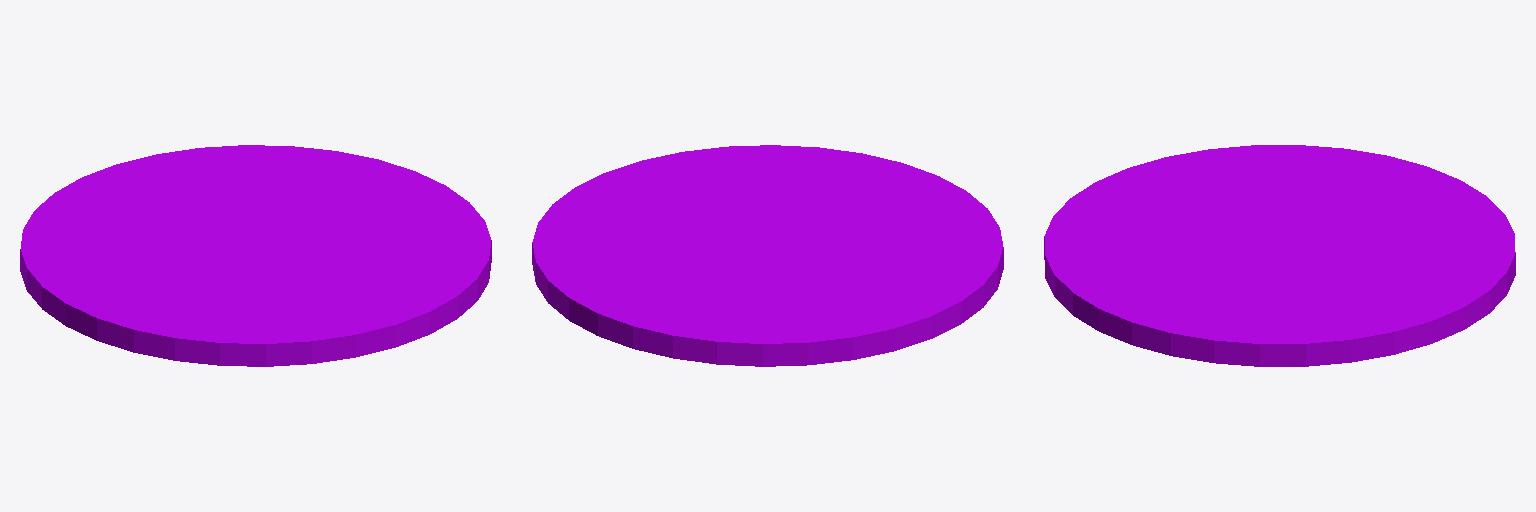
URDF robot description (Interference):
<?xml version="1.0"?>
<robot name="Interference">
  <link name="baseLink">
    <inertial>
      <origin xyz="0.0 0.0 0.0" rpy="0.0 0.0 0.0"/>
      <inertia ixx="0.0" ixy="0.0" ixz="0.0" iyy="0.0" iyz="0.0" izz="0.0"/>
      <mass value="0"/>
    </inertial>
    <visual>
      <origin xyz="0.0 0.0 0.0" rpy="0.0 0.0 0.8949412745272767"/>
      <geometry>
        <cylinder radius="0.09373231728798279" length="0.01"/>
      </geometry>
      <material name="color">
        <color rgba="0.7713881088113582 0.04226809757592176 0.9740358387519498 1.0"/>
      </material>
    </visual>
  </link>
</robot>

--- What the picture shows (computed from the rendered views, not written in the file) ---
The picture shows the robot from 3 angles, left to right: view 1: azimuth 30°, elevation 25°; view 2: azimuth 150°, elevation 25°; view 3: azimuth 270°, elevation 25°; orthographic projection.
Model Interference with 1 links and 0 joints (none), rooted at baseLink, posed all joints at 0.
Links seen in each view (by area): view 1: baseLink; view 2: baseLink; view 3: baseLink.
Boxes of the visible links, <box> form: baseLink: <box>20,145,491,366</box>; baseLink: <box>532,145,1003,366</box>; baseLink: <box>1044,145,1515,366</box>.
Size in the robot's own frame: 0.1868 by 0.1868 by 0.01 metres.
Geometry: primitives only (box / cylinder / sphere), no mesh files.